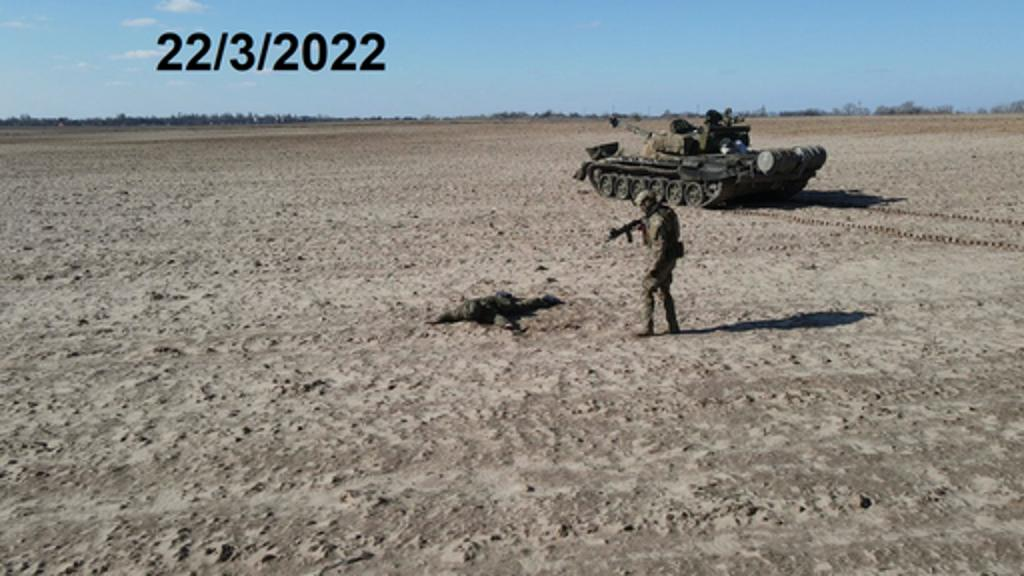TANK: (572, 94, 830, 214)
